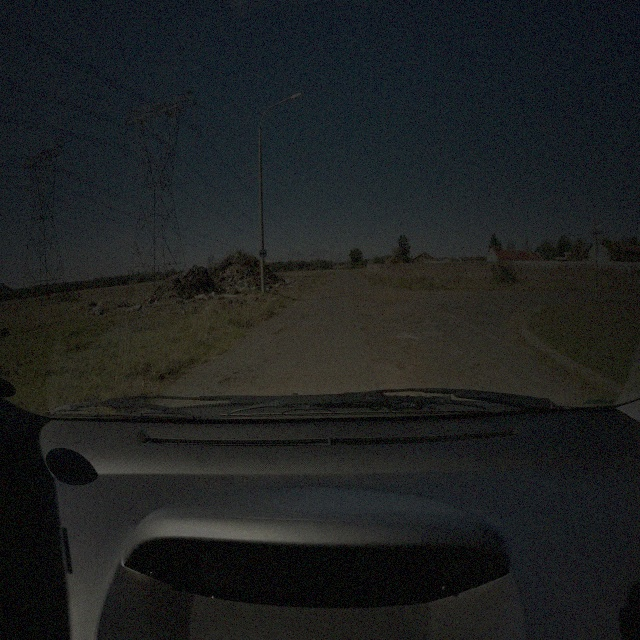pothole: (273, 322, 300, 338), (366, 338, 386, 348), (218, 376, 237, 385), (405, 347, 422, 357), (400, 362, 415, 373), (372, 357, 390, 366), (359, 322, 376, 331), (479, 361, 487, 371), (436, 356, 445, 362)
